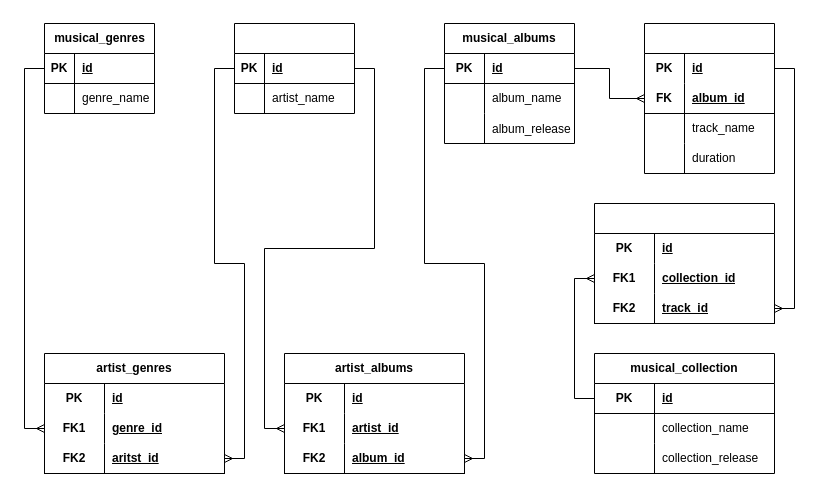
Some shapes in this 820 by 491 pixel diagram are drawn without their labels. The shapes that lost their labels are listed below. From the top down, each one's box as (x1, y1, x2, y2) in pixels, then its label:
(234, 22, 354, 114): musical_artists
(644, 22, 774, 174): musical_tracks
(594, 202, 774, 324): collection_tracks
